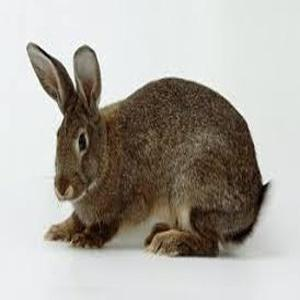rabbit: (27, 43, 267, 255)
